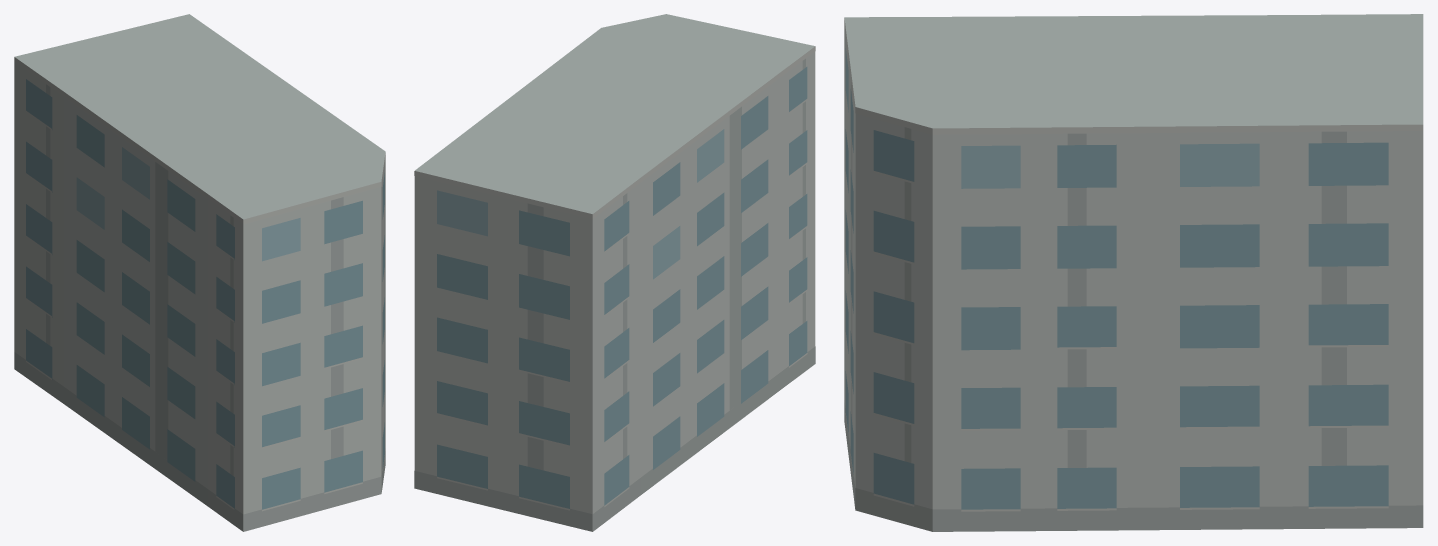
The model's file is survey-upis-32831601.glb.
The picture shows the model from 3 angles, left to right: view 1: azimuth 30°, elevation 25°; view 2: azimuth 150°, elevation 25°; view 3: azimuth 270°, elevation 25°; orthographic projection. The views are drawn at different scales.
Parts seen in each view (by area): view 1: survey-upis-32831601.tmp; view 2: survey-upis-32831601.tmp; view 3: survey-upis-32831601.tmp.
Part boxes in pixels (box(x1,y1,x2,y2)): survey-upis-32831601.tmp: box(14, 14, 385, 531); survey-upis-32831601.tmp: box(414, 14, 815, 531); survey-upis-32831601.tmp: box(844, 14, 1423, 531).
Size of the model in its own units: 9.28 by 15.25 by 19.85.
